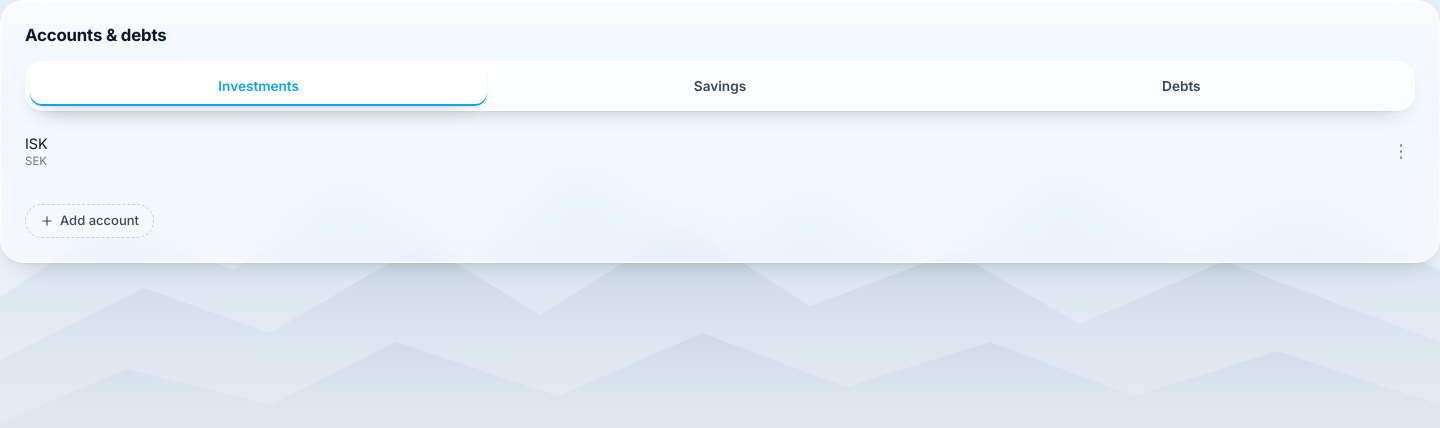
it: AccountsSettings › lists the domain's accounts with their rate and switches domains
The width and height of the screenshot is (1440, 428).
expect the text "ISK" is shown: met, box [25, 135, 48, 152]
Click the tab "Savings" at (720, 86), box [491, 66, 949, 106]
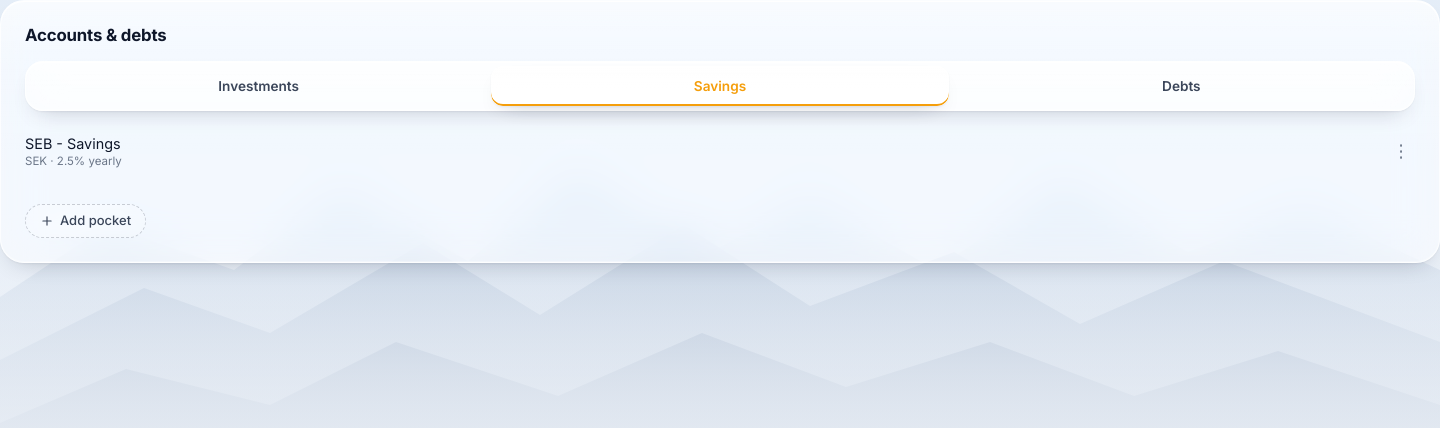
expect the text "SEB - Savings" is shown: met, box [25, 135, 121, 152]
expect the text "SEK · 2.5% yearly" is shown: met, box [25, 154, 122, 168]
